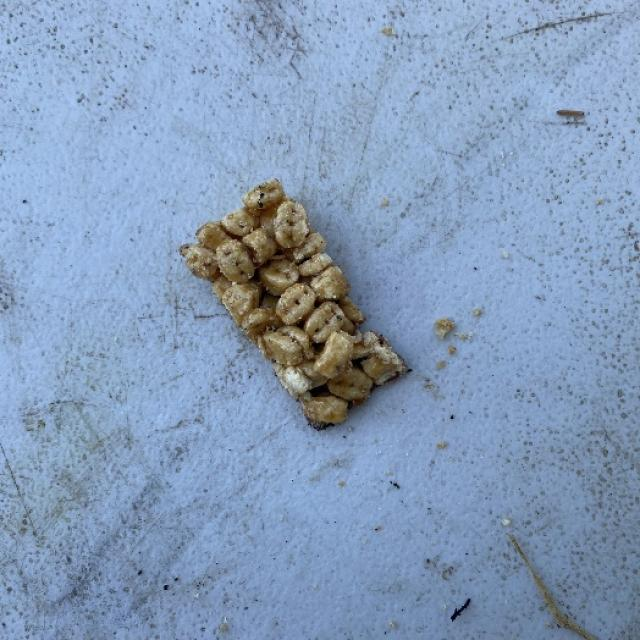organik: (169, 175, 417, 432)
